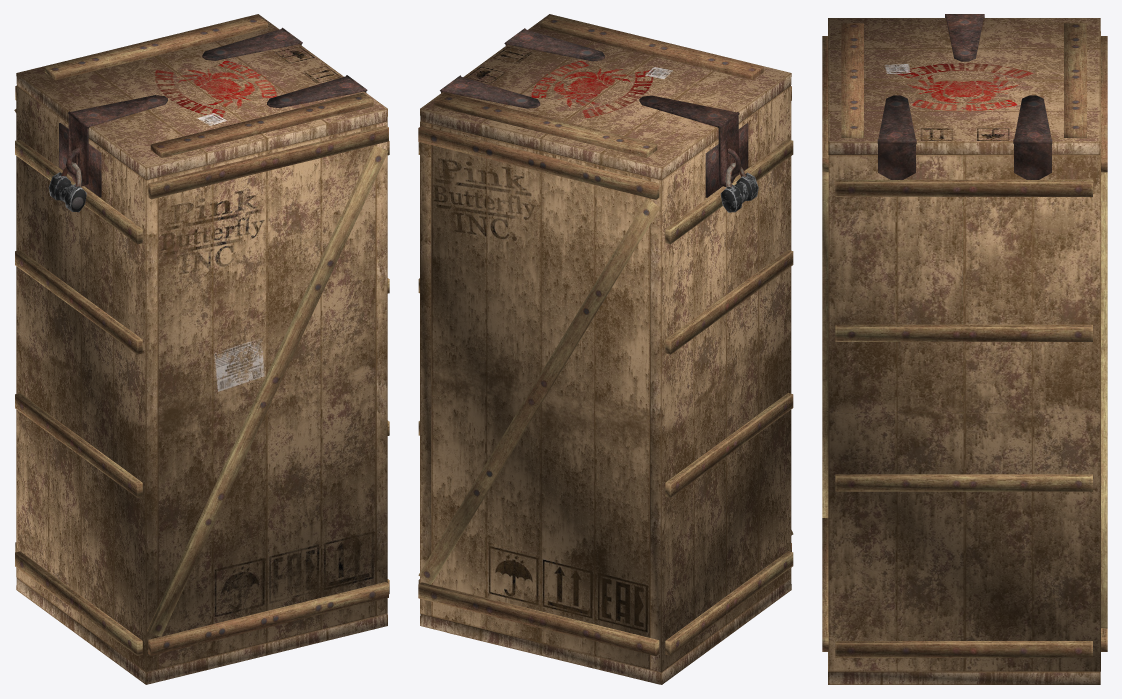
Rendered from tall_wooden_box_lowpoly.glb.
3 renders of one model, left to right at view 1: azimuth 30°, elevation 25°; view 2: azimuth 150°, elevation 25°; view 3: azimuth 270°, elevation 25°, orthographic. The views are drawn at different scales.
Parts seen in each view (by area): view 1: AssetMesh_001; view 2: AssetMesh_001; view 3: AssetMesh_001.
Part boxes in pixels (x1=…): AssetMesh_001: x1=14, y1=14, x2=389, y2=684; AssetMesh_001: x1=418, y1=14, x2=793, y2=684; AssetMesh_001: x1=822, y1=14, x2=1107, y2=684.
Size of the model in its own units: 1.06 by 2 by 0.933.
1 material, 1 textured.
